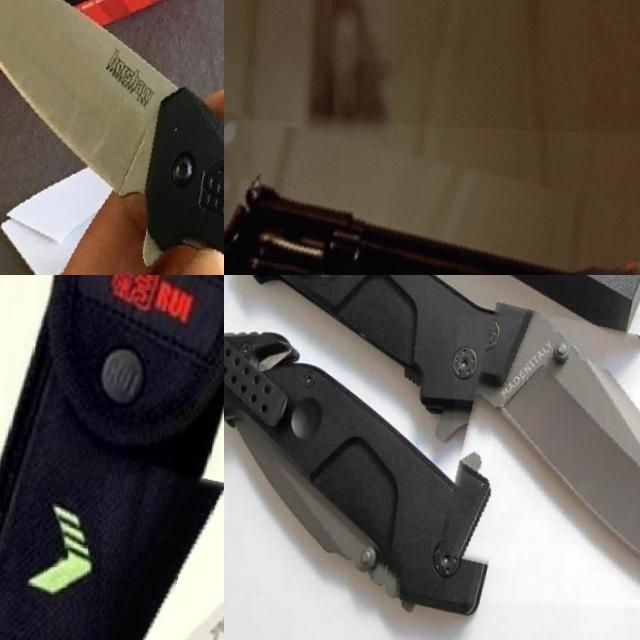-: (0, 0, 224, 275), (451, 312, 640, 608), (97, 472, 224, 640)
gun-knife-thesis - v11 Yolov5 augmented: (224, 114, 640, 275)
